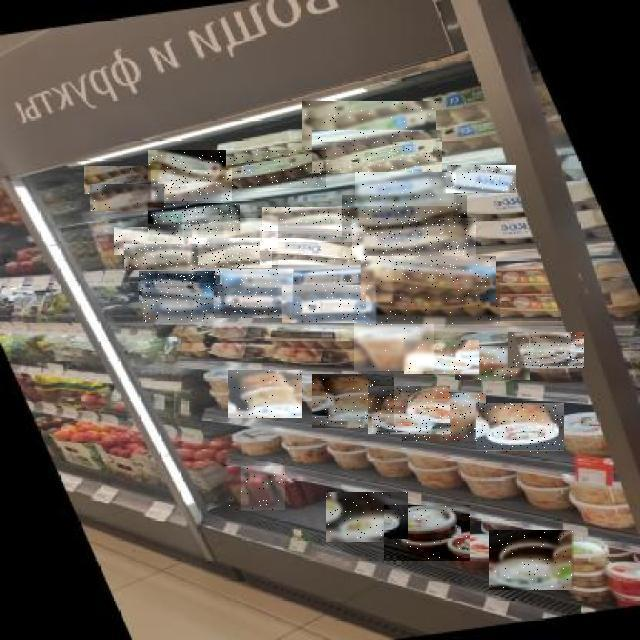Eggs: (302, 101, 436, 150), (361, 256, 496, 302), (366, 282, 500, 324), (312, 130, 442, 173), (352, 218, 476, 260), (490, 530, 576, 590), (342, 195, 467, 236), (385, 506, 471, 564), (278, 261, 393, 303), (312, 374, 394, 428), (476, 404, 564, 454), (326, 492, 408, 542), (219, 150, 326, 188), (402, 393, 486, 441), (261, 227, 365, 265), (368, 386, 450, 434), (354, 323, 434, 371), (282, 285, 376, 323), (229, 370, 303, 418), (356, 172, 456, 206), (262, 208, 358, 242), (182, 218, 278, 248), (148, 204, 240, 234), (508, 332, 584, 368), (140, 272, 224, 304), (455, 346, 530, 380), (404, 340, 479, 374), (143, 290, 222, 322), (188, 238, 272, 268), (151, 170, 232, 201), (148, 150, 226, 182), (218, 269, 293, 302), (214, 288, 292, 318), (114, 227, 192, 255), (84, 166, 158, 194), (90, 184, 164, 211), (218, 467, 262, 511), (241, 467, 285, 511), (447, 165, 516, 193), (124, 245, 198, 271)
